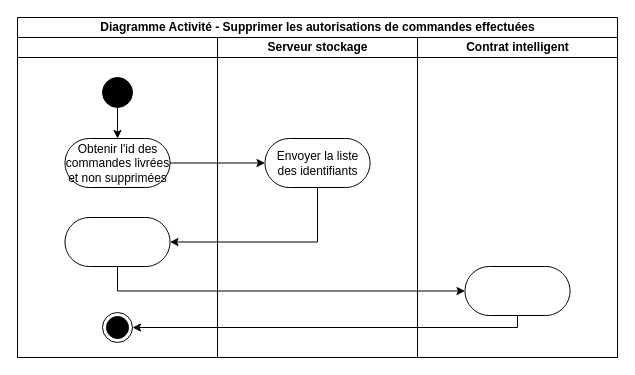
Some shapes in this 635 by 375 pixel diagram are drawn without their labels. Each missing label, with the box of its shape:
Demander la suppression des autorisations: (64, 216, 170, 266)
Serveur backend: (16, 36, 218, 358)
Supprimer les autorisations: (464, 266, 570, 316)
